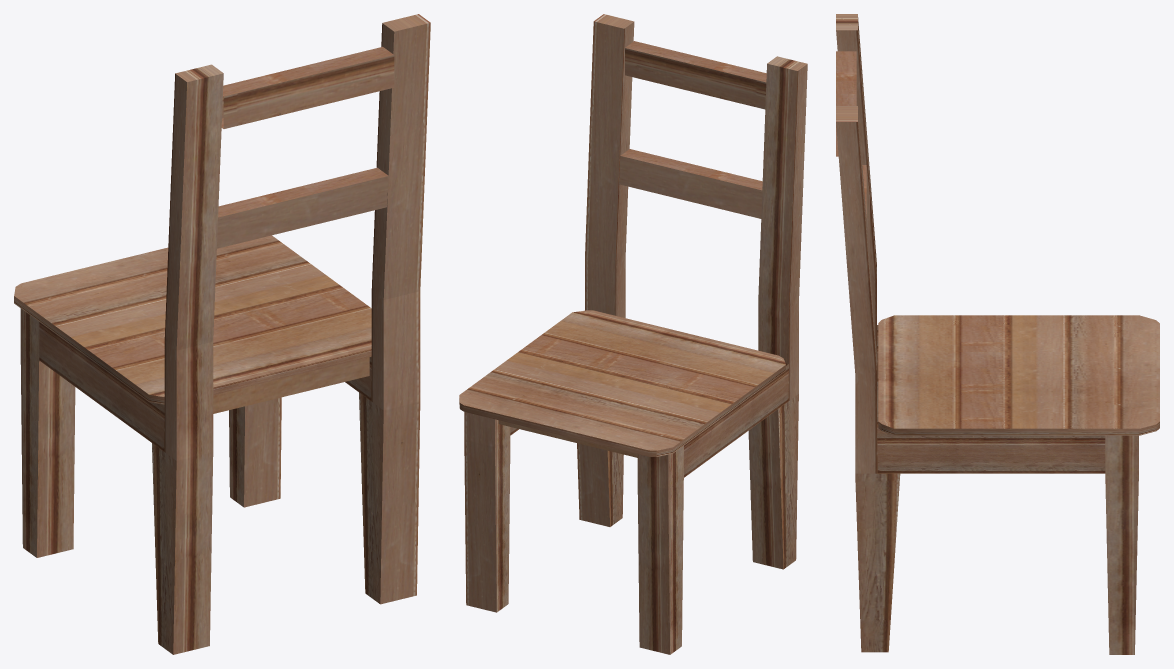
The model's file is Prop_chair1.FBX.
3 views of the same model, side by side, from view 1: azimuth 30°, elevation 25°; view 2: azimuth 150°, elevation 25°; view 3: azimuth 270°, elevation 25° (orthographic). The views are drawn at different scales.
Parts seen in each view (by area): view 1: chair1; view 2: chair1; view 3: chair1.
Part boxes in pixels (box(x1,y1,x2,y2)): chair1: box(14, 14, 430, 654); chair1: box(459, 14, 807, 654); chair1: box(836, 14, 1159, 654).
Size of the model in its own units: 26.33 by 31.79 by 57.71.
Materials: 1 (1 with a texture image).
